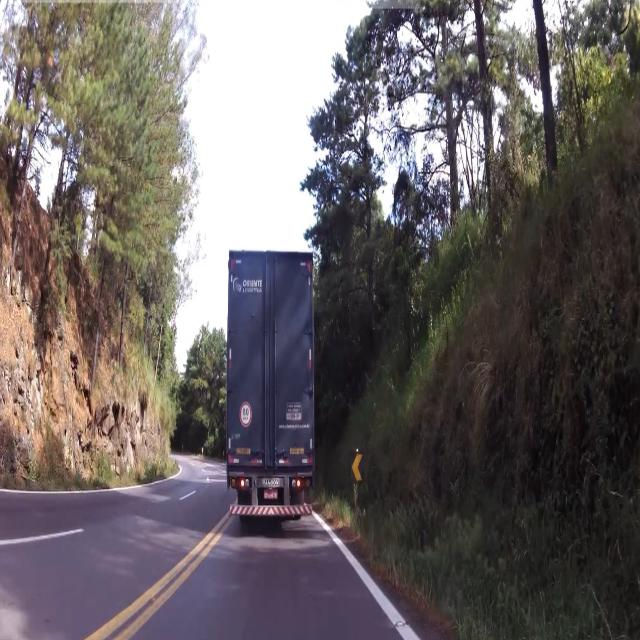Del: (347, 452, 366, 482)
